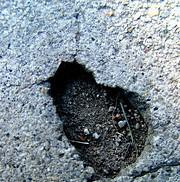Spalling: (37, 59, 150, 182)
